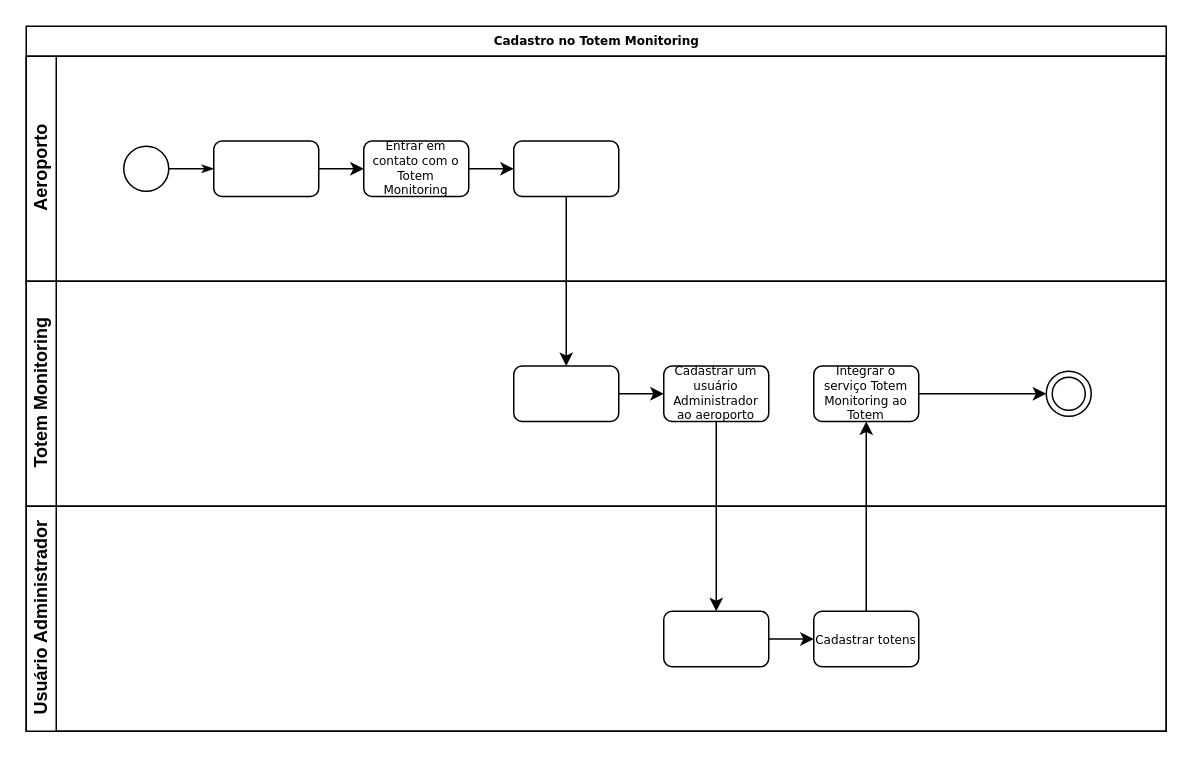
Some shapes in this 1193 by 758 pixel diagram are drawn without their labels. The centre of each missing label's shape, as x and y in pixels:
"Cadastrar funcionários" belongs at [715,638].
"Cadastrar o Aeroporto" belongs at [565,393].
"Informar dados para contrato" belongs at [565,168].
"Visualizar site institucional" belongs at [265,168].
